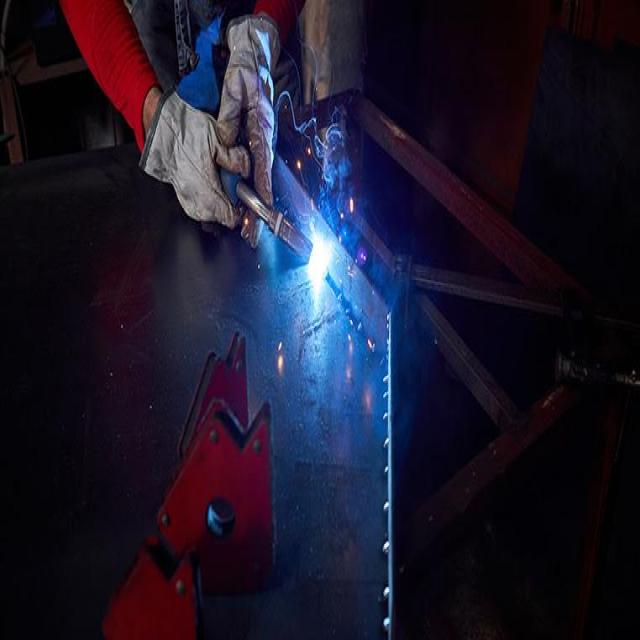welding: (308, 235, 330, 287)
